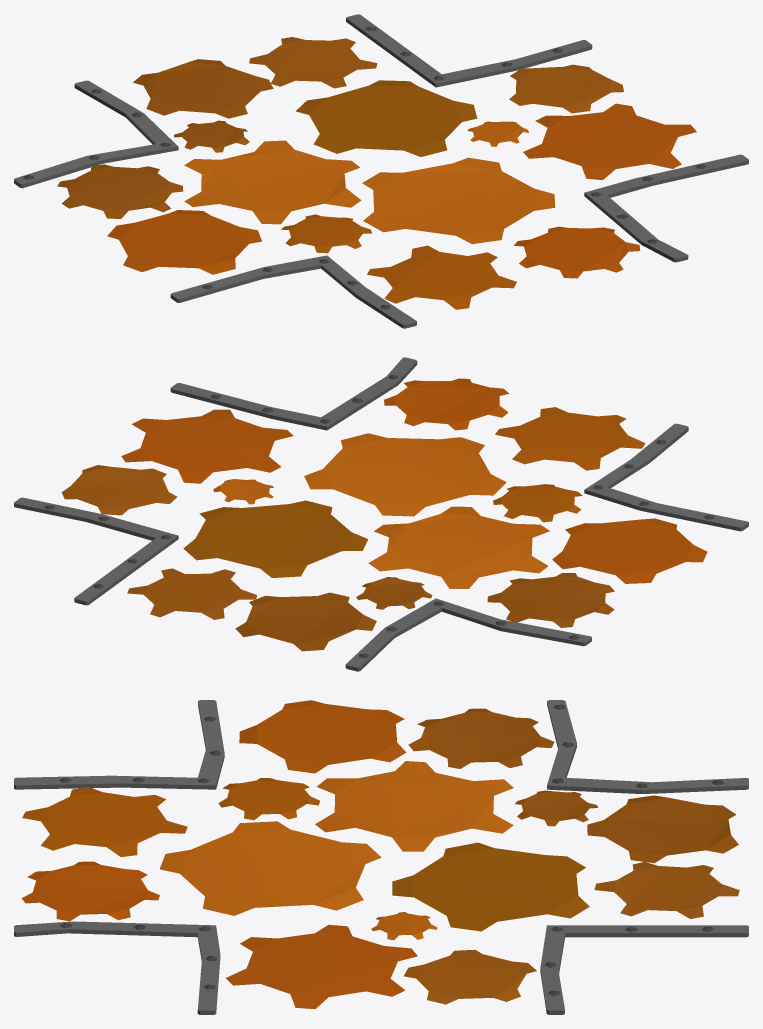
Rendered from Road Cross Short.glb.
The picture shows the model from 3 angles, top to bottom: view 1: azimuth 30°, elevation 25°; view 2: azimuth 150°, elevation 25°; view 3: azimuth 270°, elevation 25°; orthographic projection. The views are drawn at different scales.
Visible parts, largest first — view 1: RoadCrossShort; view 2: RoadCrossShort; view 3: RoadCrossShort.
Boxes of the visible parts, bbox=[...] form: RoadCrossShort: bbox=[14, 14, 748, 328]; RoadCrossShort: bbox=[14, 357, 748, 671]; RoadCrossShort: bbox=[14, 700, 748, 1014].
Size of what is drawn, in the model's own units: 4.03 by 0.0395 by 4.
1 material, 1 textured.
